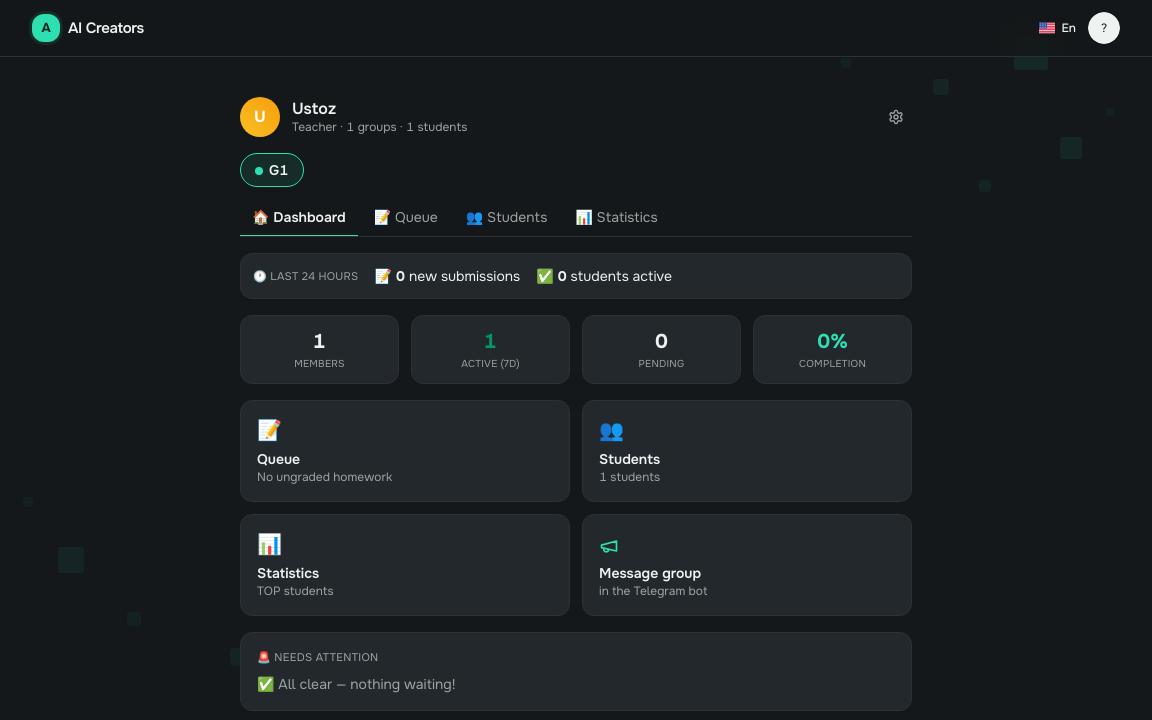
it: TeacherProfile grading queue — capped page indicator › count request fails → degrades to the old view (no indicator) and beacons the failure
The image size is (1152, 720).
Click the tab "📝 Queue". click: (406, 222)
box: top-left (362, 207), bottom-right (450, 237)
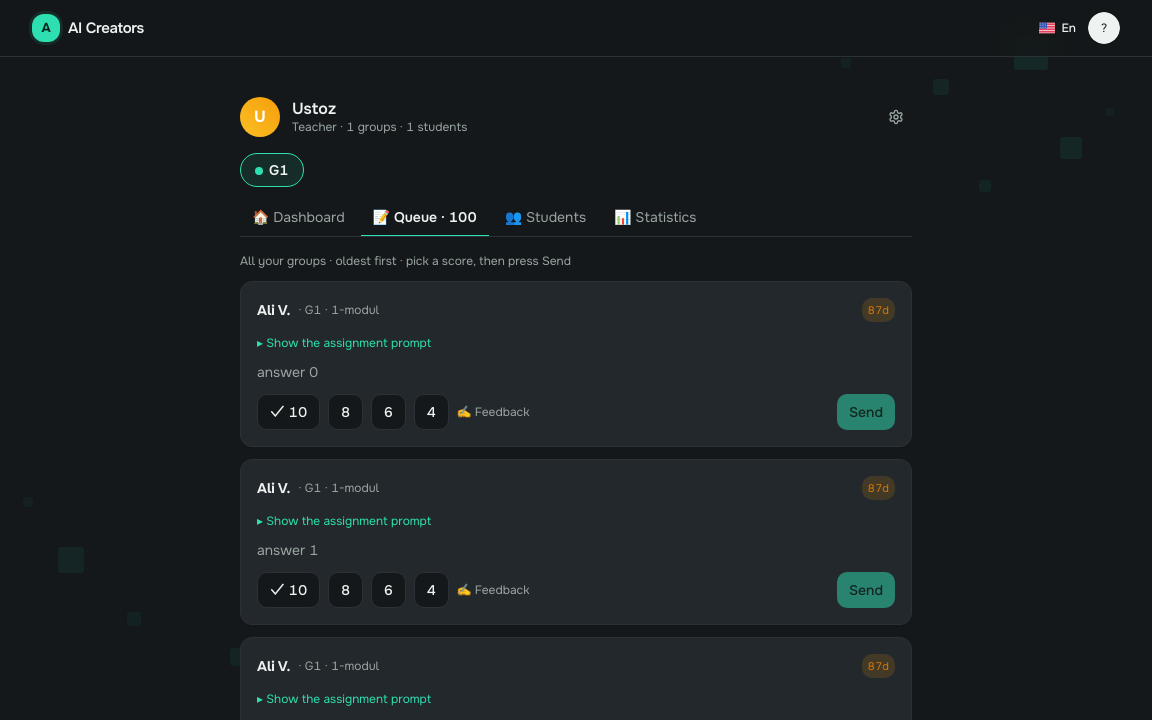
Now the text "answer 0" is shown, box top-left (257, 363), bottom-right (318, 381)
